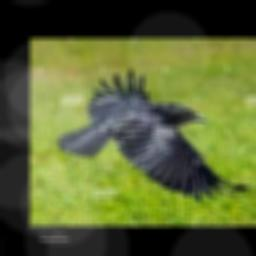Crow: (58, 70, 250, 202)
